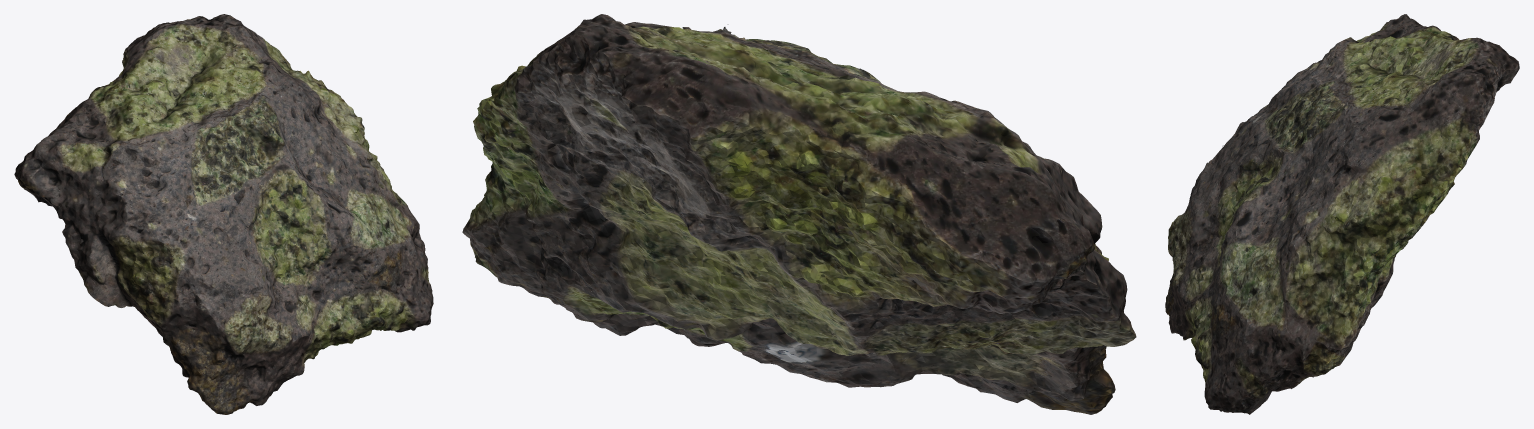
Rendered from Rock3_reduced.obj.
3 renders of one model, left to right at view 1: azimuth 30°, elevation 25°; view 2: azimuth 150°, elevation 25°; view 3: azimuth 270°, elevation 25°, orthographic. The views are drawn at different scales.
Size of the model in its own units: 0.1297 by 0.0934 by 0.0961.
1 material, 1 textured.
